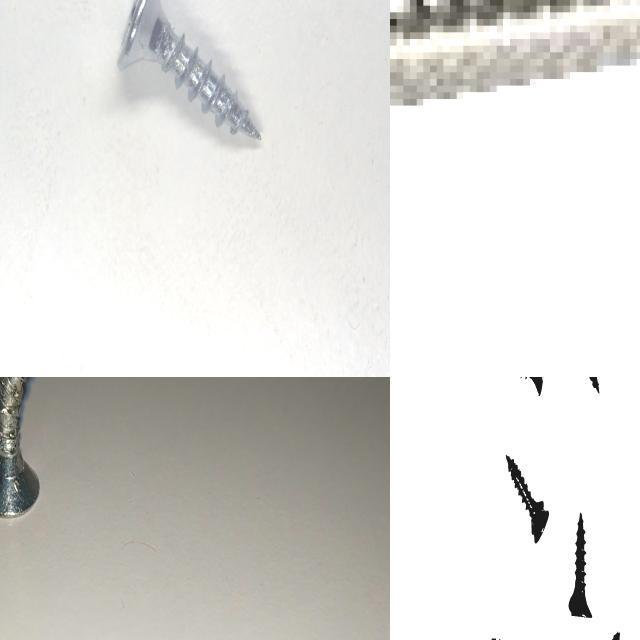Screw: (390, 0, 640, 109), (115, 0, 262, 139), (0, 377, 39, 516), (506, 454, 549, 542), (569, 512, 593, 617)
